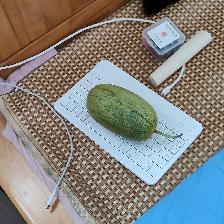gua: (89, 81, 176, 147)
